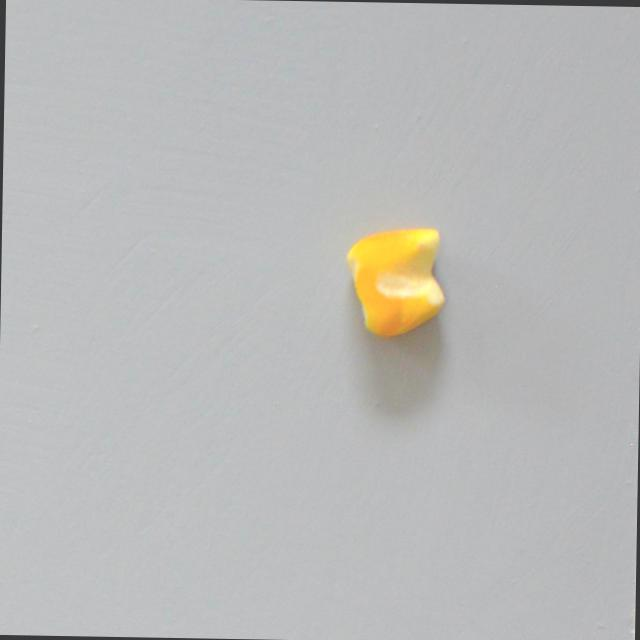no_canjicado: (345, 225, 447, 339)
